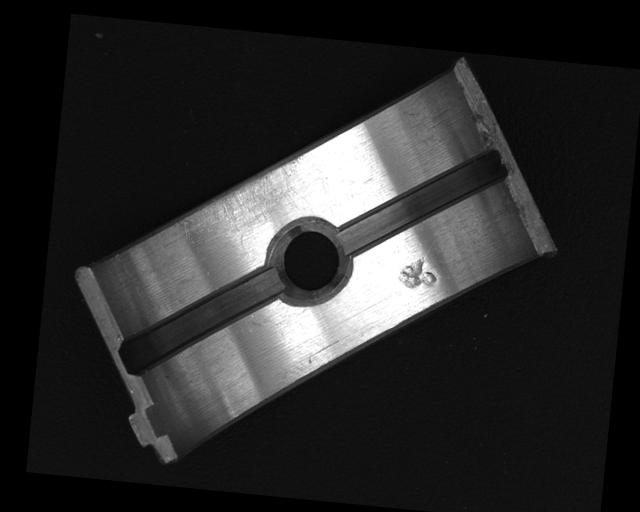bruise: (395, 252, 440, 292)
gap: (337, 135, 507, 270), (116, 252, 285, 385)
hole: (265, 215, 357, 309)
scratch: (167, 140, 305, 254)
